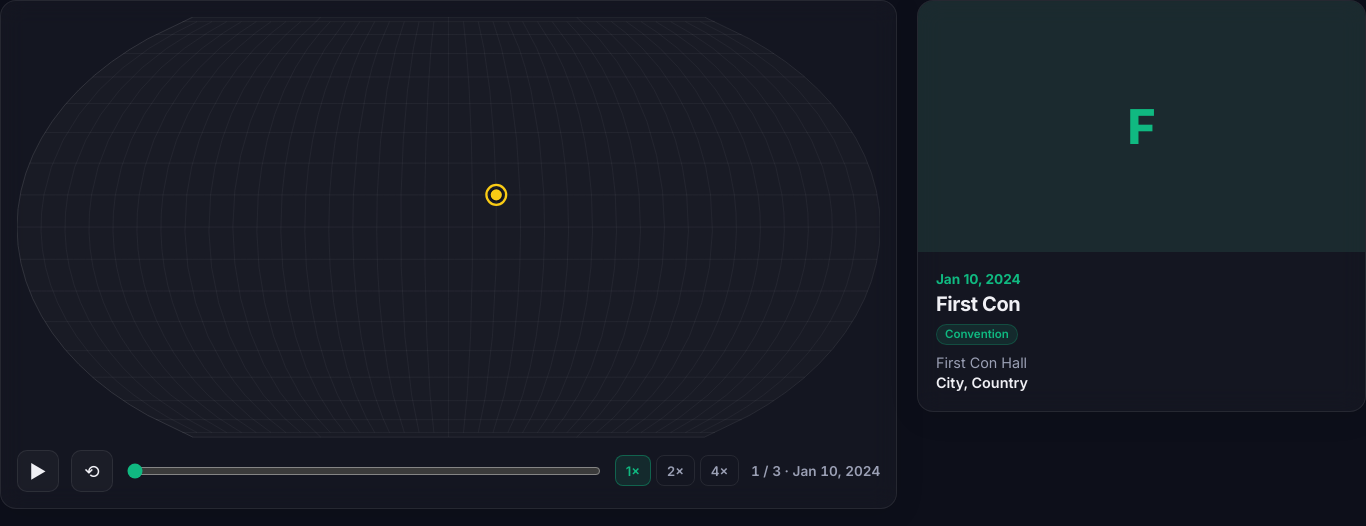
Test case: Animate › restart returns to the first event and plays
Set the slider named "Timeline position" to "2": (593, 471) [127, 463, 601, 479]
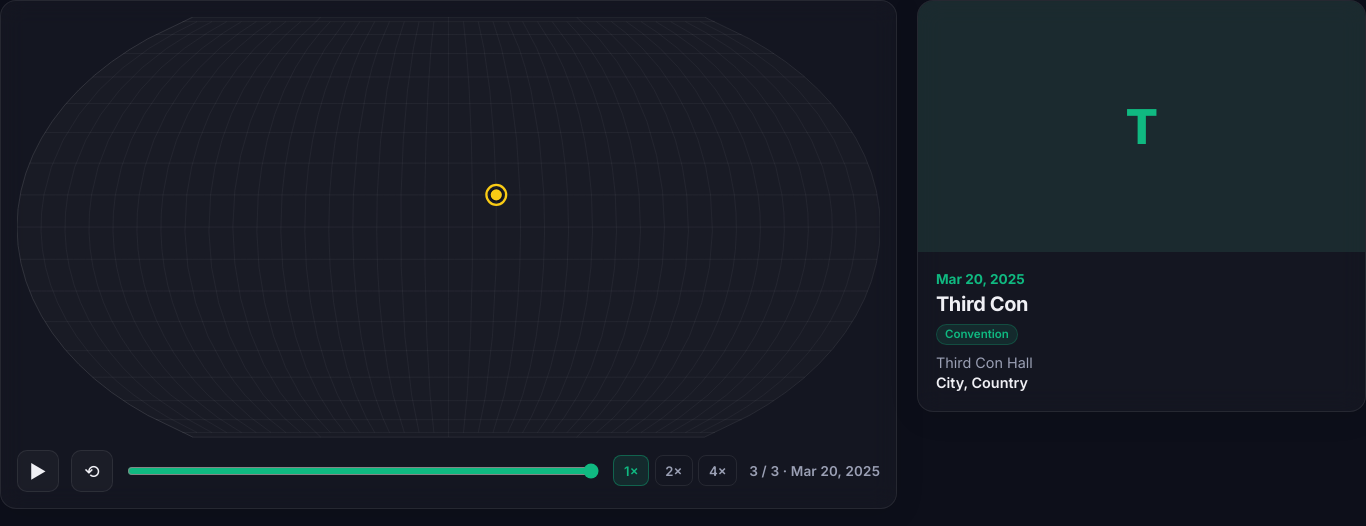
Click the button named "Restart": (92, 471) [71, 450, 113, 492]
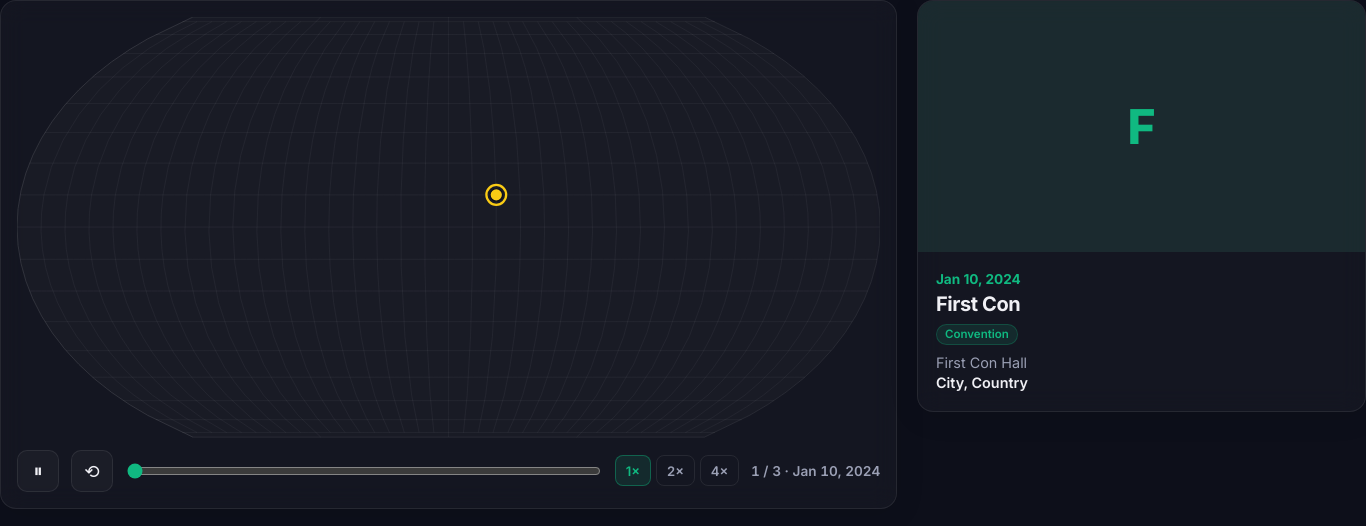
Check: the heading "First Con" is shown, box [936, 292, 1020, 316]
Check: the button named "Pause" is shown, box [17, 450, 59, 492]
